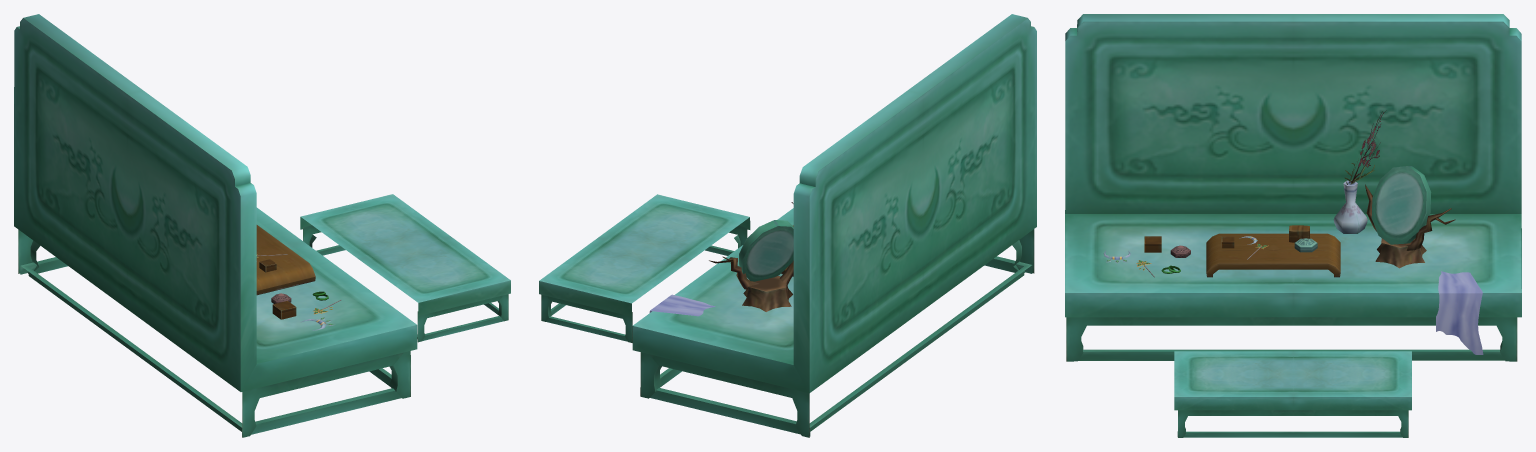
The model's file is M3_B_zhuozi001.FBX.
The picture shows the model from 3 angles, left to right: view 1: azimuth 30°, elevation 25°; view 2: azimuth 150°, elevation 25°; view 3: azimuth 270°, elevation 25°; orthographic projection.
Visible parts, largest first — view 1: M3_B_zhuozi001; view 2: M3_B_zhuozi001, M3_P_zhuozi_hua001; view 3: M3_B_zhuozi001, M3_P_zhuozi_hua001.
Boxes of the visible parts, x1,y1,x2,y2 form: M3_B_zhuozi001: (14, 14, 510, 437); M3_B_zhuozi001: (539, 14, 1036, 437); M3_P_zhuozi_hua001: (649, 202, 793, 316); M3_B_zhuozi001: (1065, 14, 1521, 437); M3_P_zhuozi_hua001: (1351, 110, 1483, 354).
Bounding box in the file's own units: 338 × 262 × 409.
